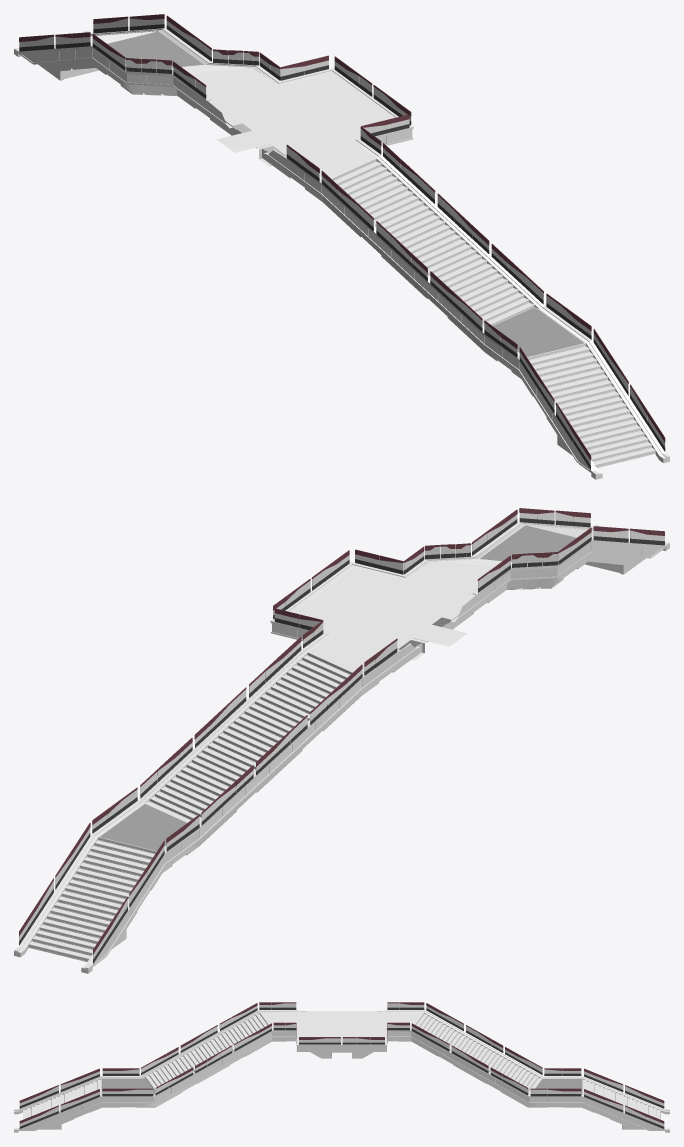
The picture shows the model from 3 angles, top to bottom: view 1: azimuth 30°, elevation 25°; view 2: azimuth 150°, elevation 25°; view 3: azimuth 270°, elevation 25°; orthographic projection. The views are drawn at different scales.
Visible parts, largest first — view 1: SM_H_Building_FutureTech_Bridge_01Q; view 2: SM_H_Building_FutureTech_Bridge_01Q; view 3: SM_H_Building_FutureTech_Bridge_01Q.
Boxes of the visible parts, x1,y1,x2,y2 form: SM_H_Building_FutureTech_Bridge_01Q: [14, 14, 669, 479]; SM_H_Building_FutureTech_Bridge_01Q: [14, 508, 669, 973]; SM_H_Building_FutureTech_Bridge_01Q: [14, 1002, 669, 1132].
Bounding box in the file's own units: 2200 × 336 × 347.
